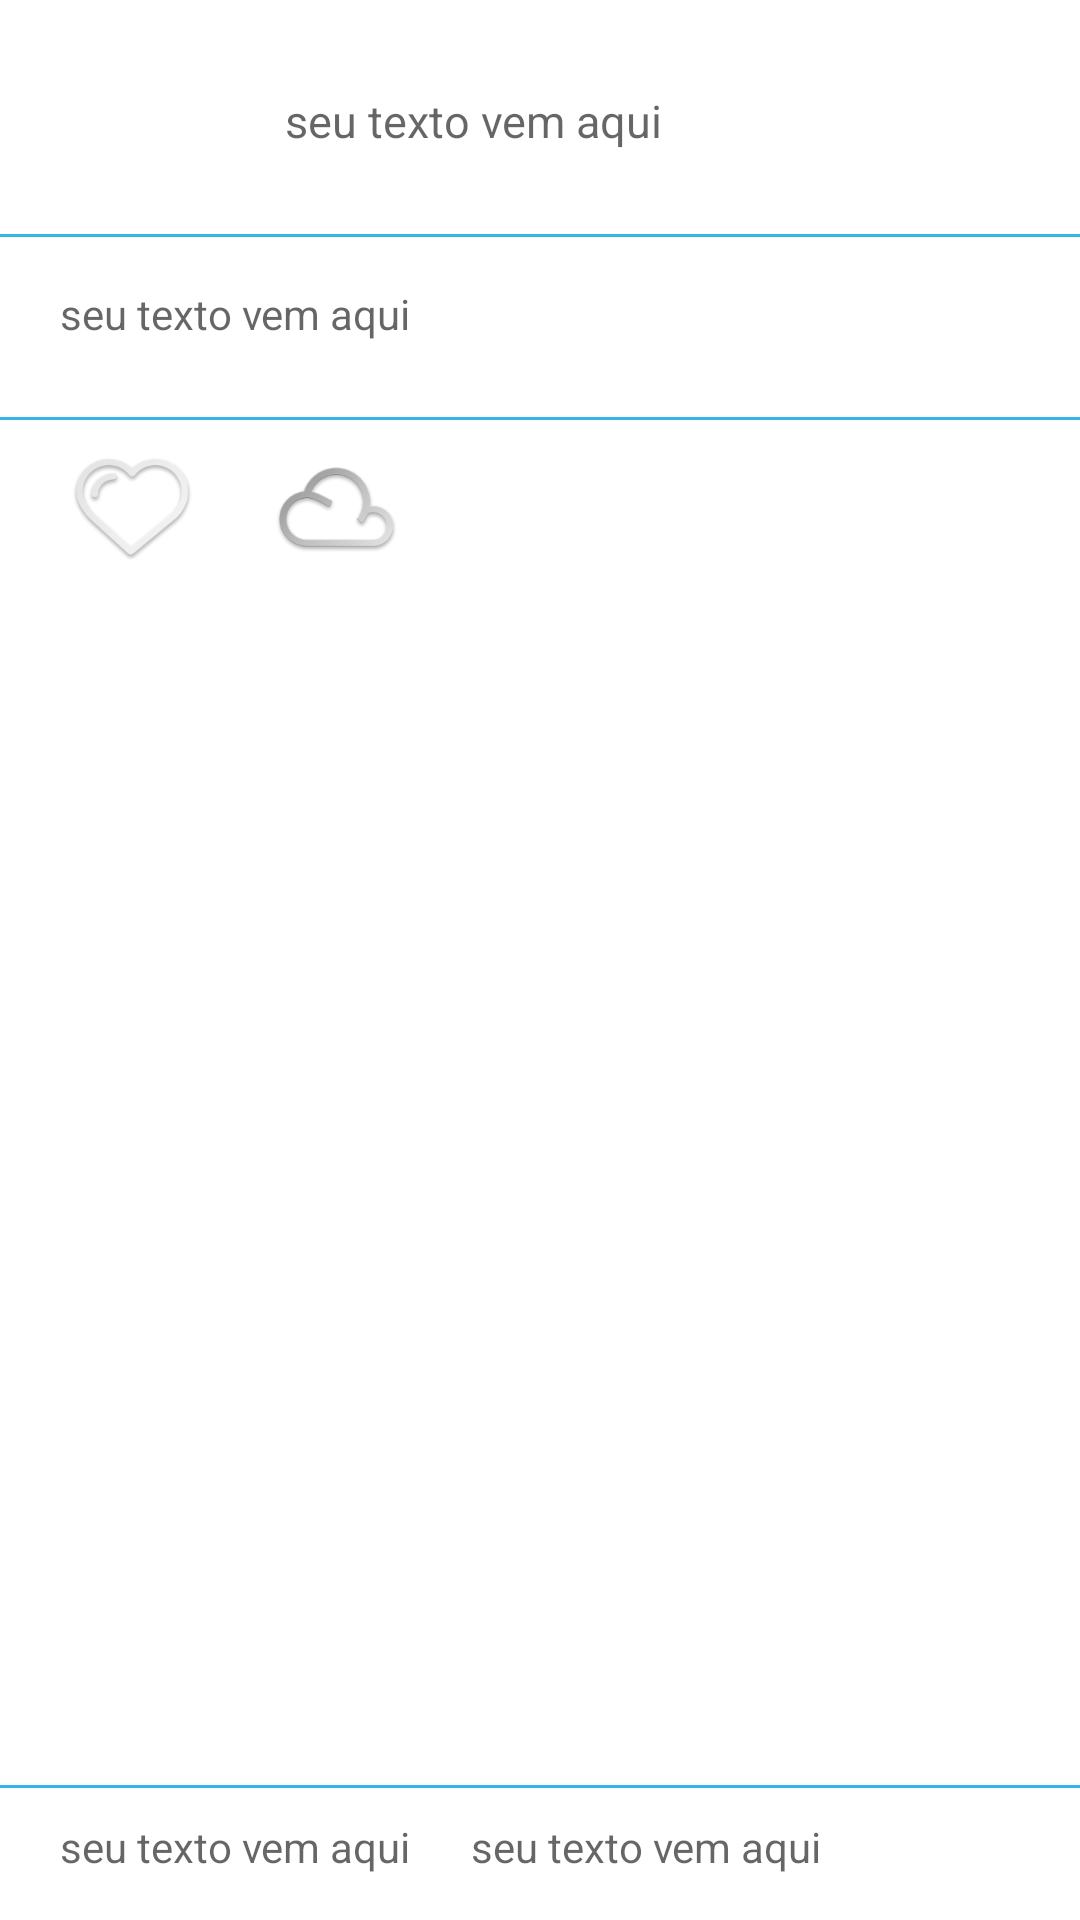

Icons on this 1080×1920 Android screen, each with its box as detection(x1, y1, x2, y2):
like no reaction: detection(75, 460, 189, 558)
